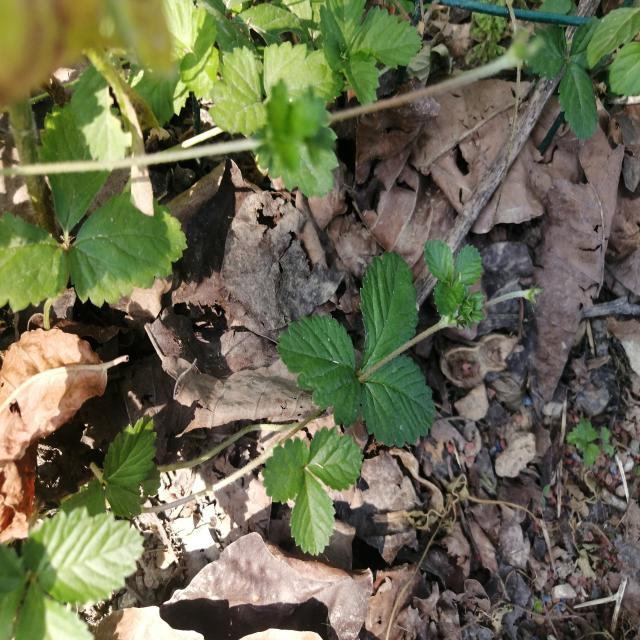Mock_strawberry: (296, 234, 465, 479)
